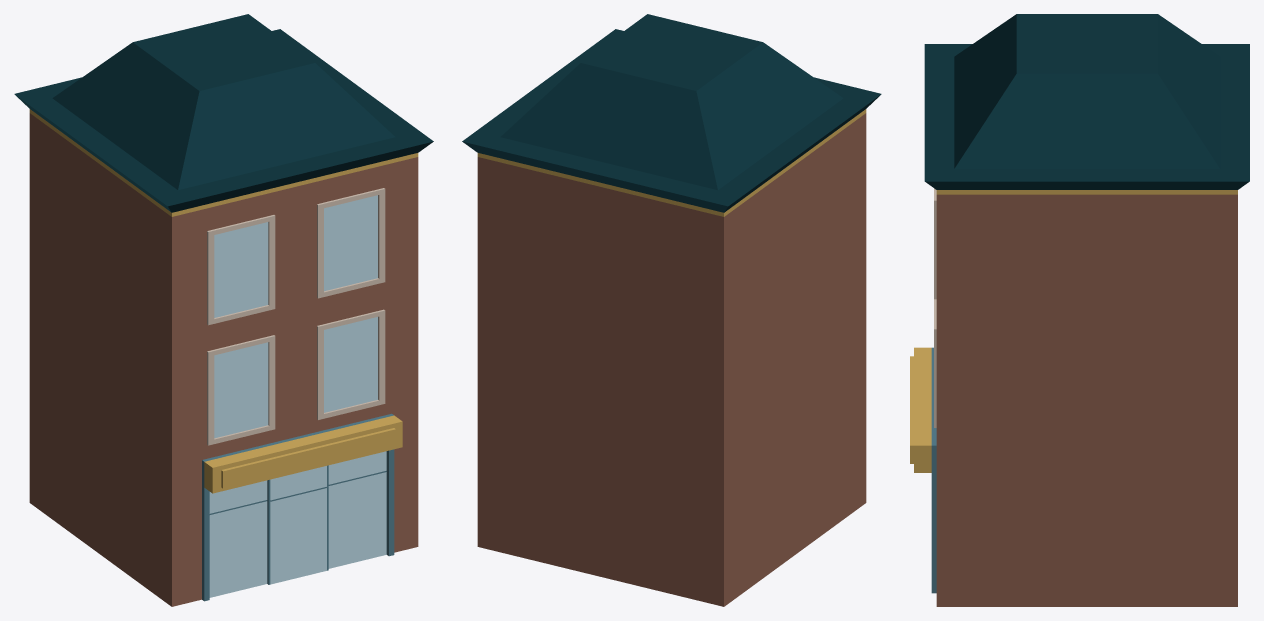
The model's file is House3Level1.fbx.
The picture shows the model from 3 angles, left to right: view 1: azimuth 30°, elevation 25°; view 2: azimuth 150°, elevation 25°; view 3: azimuth 270°, elevation 25°; orthographic projection. The views are drawn at different scales.
Parts seen in each view (by area): view 1: House3Lvl1.001; view 2: House3Lvl1.001; view 3: House3Lvl1.001.
Boxes of the visible parts, bbox=[...] form: House3Lvl1.001: bbox=[14, 14, 433, 606]; House3Lvl1.001: bbox=[462, 14, 881, 606]; House3Lvl1.001: bbox=[910, 14, 1249, 606].
Bounding box in the file's own units: 89.13 × 151 × 93.14.
